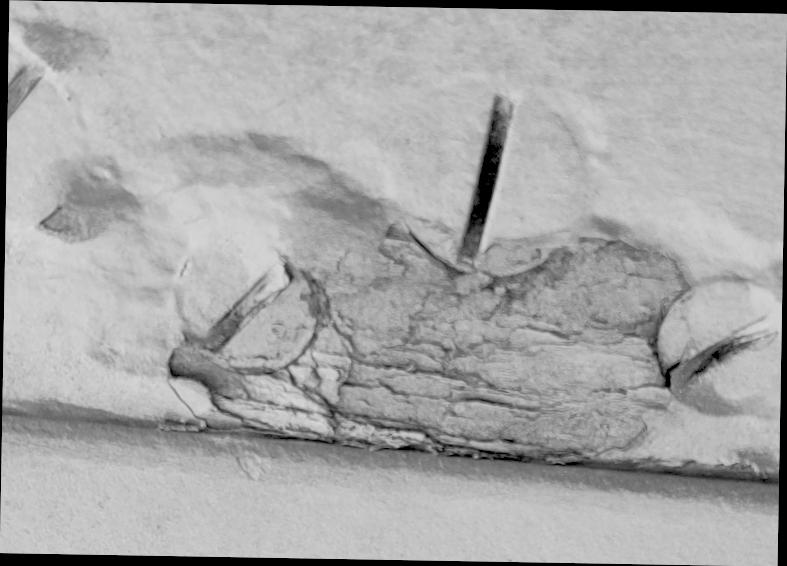paint-off: (0, 1, 787, 566)
